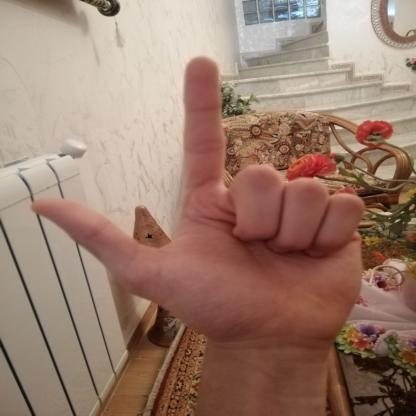LAAM: (11, 43, 378, 357)
